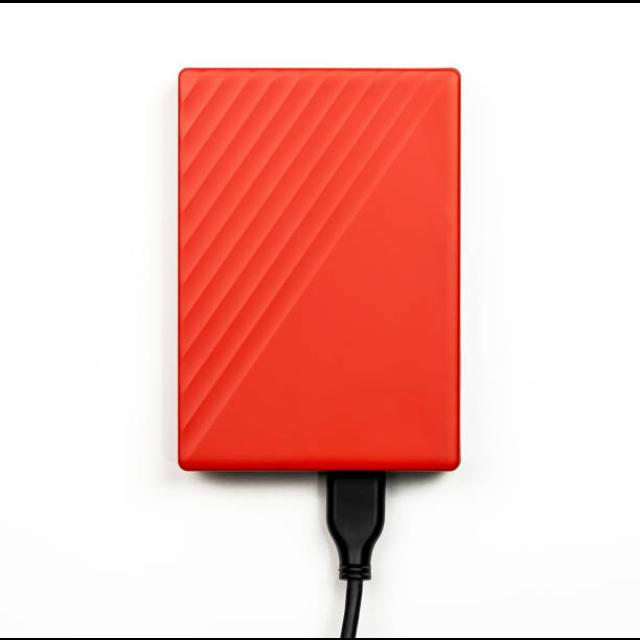HDD: (176, 67, 462, 477)
